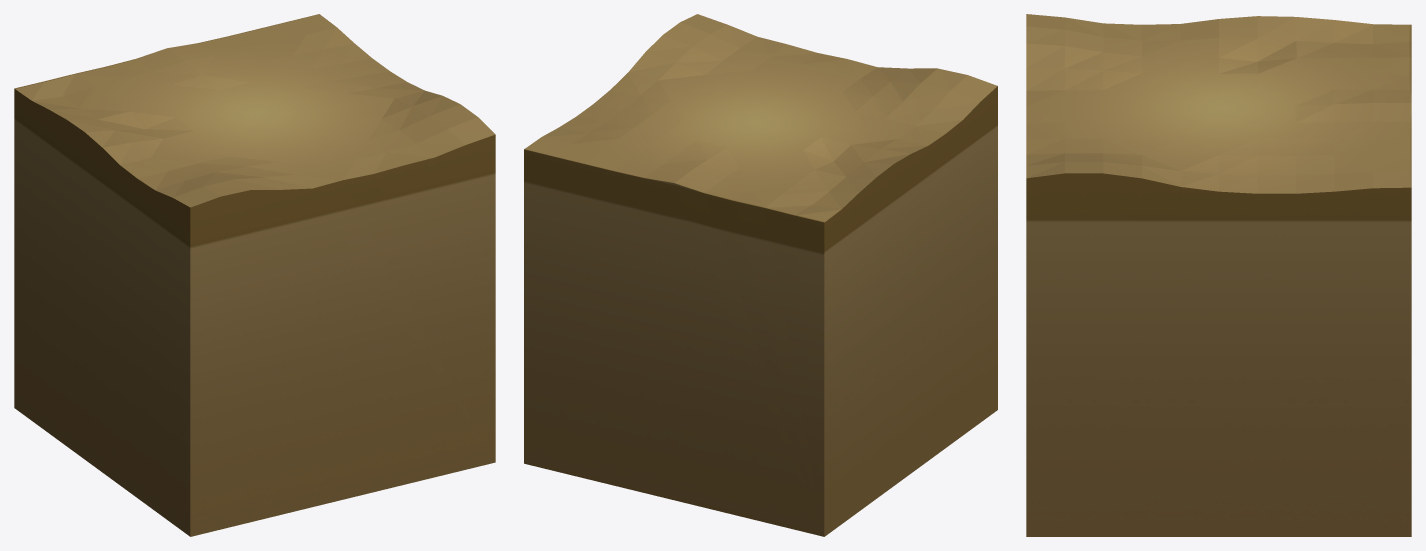
Rendered from Environmental block 1.fbx.
The picture shows the model from 3 angles, left to right: view 1: azimuth 30°, elevation 25°; view 2: azimuth 150°, elevation 25°; view 3: azimuth 270°, elevation 25°; orthographic projection. The views are drawn at different scales.
Parts seen in each view (by area): view 1: Environmental_block_1; view 2: Environmental_block_1; view 3: Environmental_block_1.
Boxes of the visible parts, x1,y1,x2,y2 form: Environmental_block_1: (14, 14, 495, 536); Environmental_block_1: (524, 14, 997, 536); Environmental_block_1: (1026, 14, 1411, 536).
Size of the model in its own units: 100 by 104 by 100.
1 material, 1 textured.
